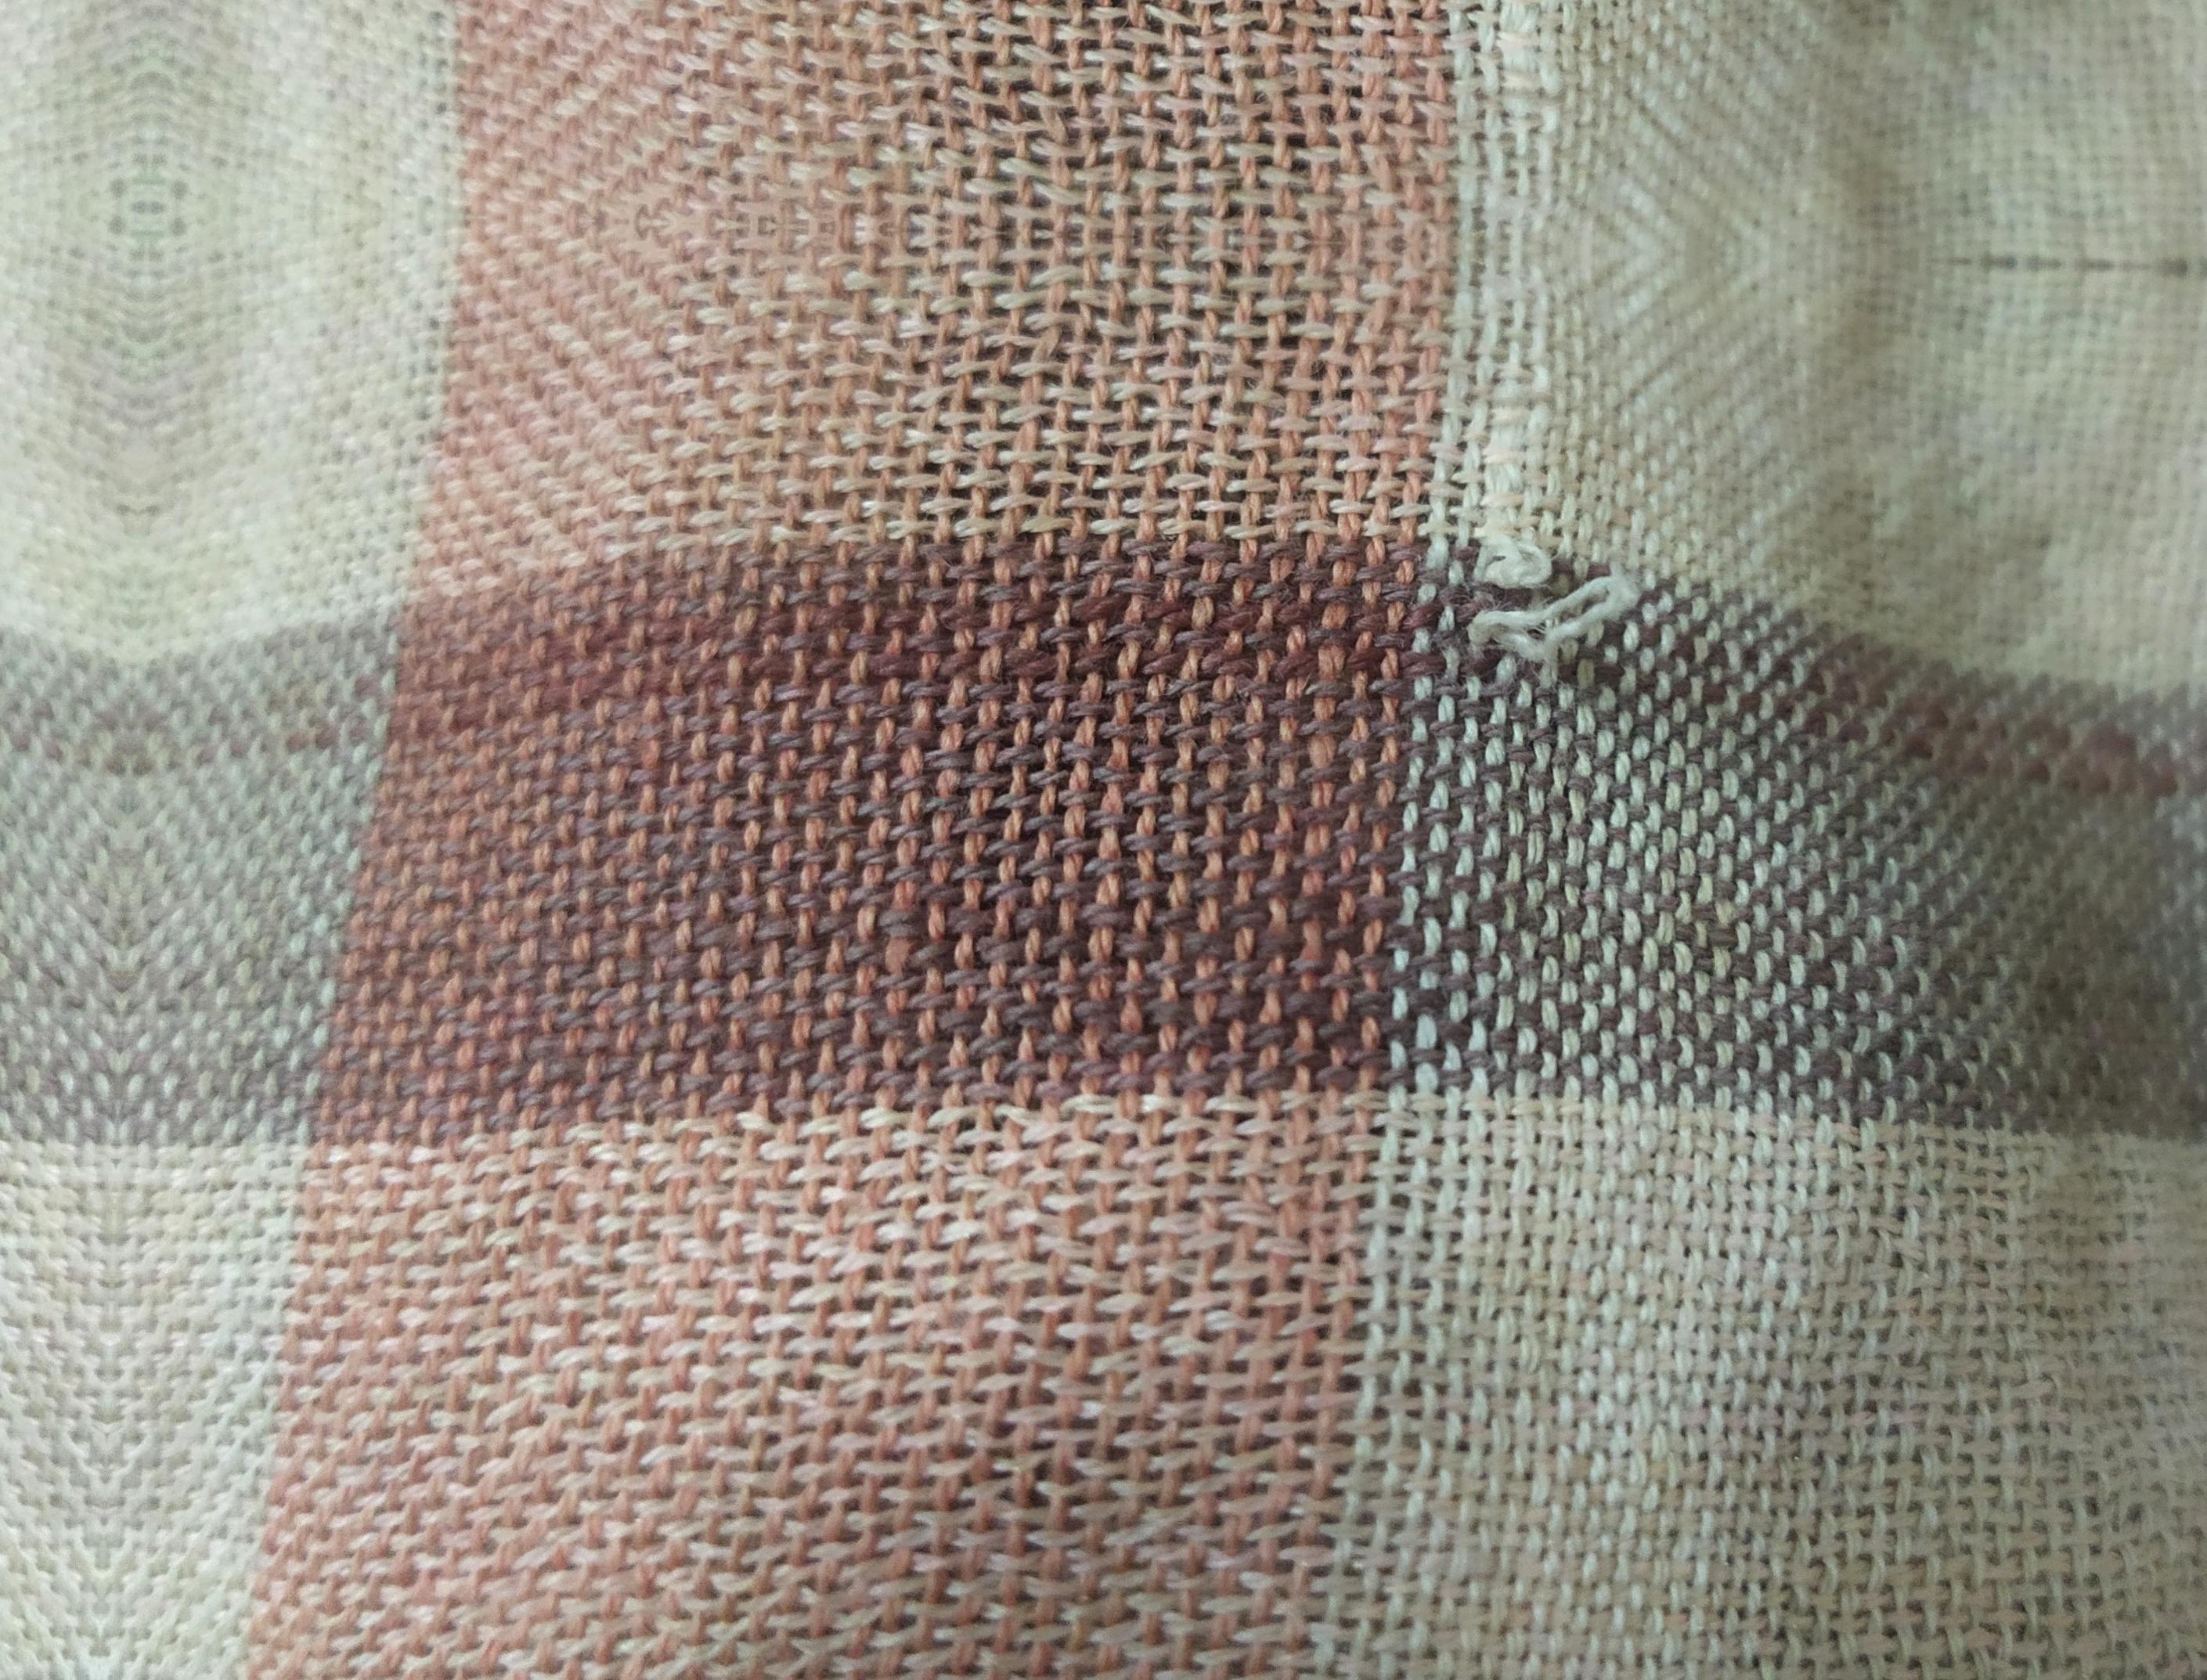snag: (1443, 515, 1685, 695)
